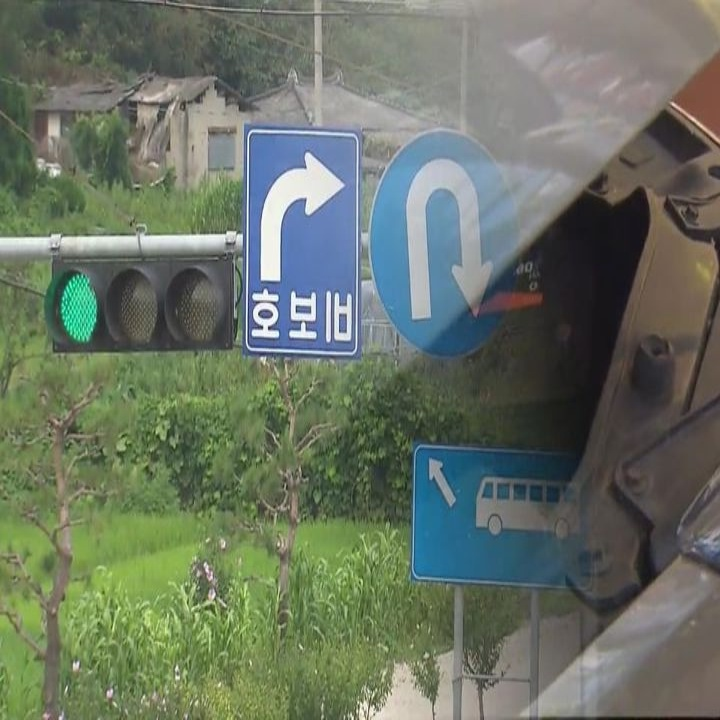right: (250, 144, 352, 287)
